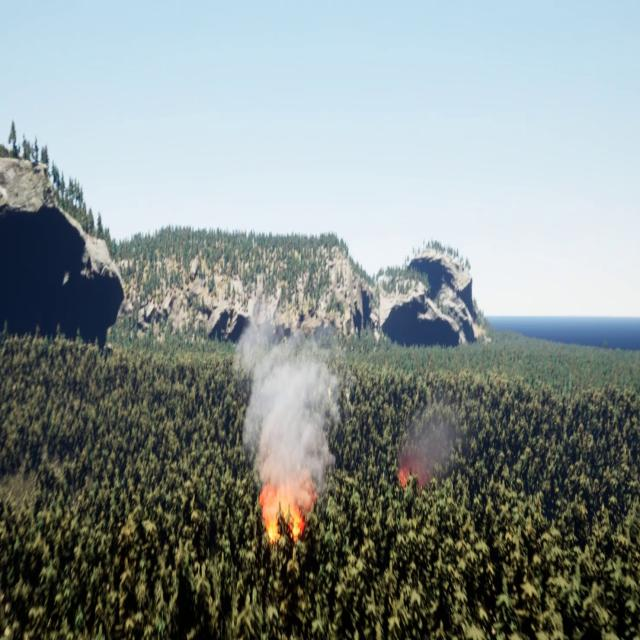fire: (257, 476, 319, 541), (400, 461, 428, 493)
smoke: (230, 303, 343, 490), (395, 412, 456, 495)
